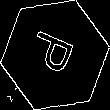P_E: (27, 28, 83, 82)
